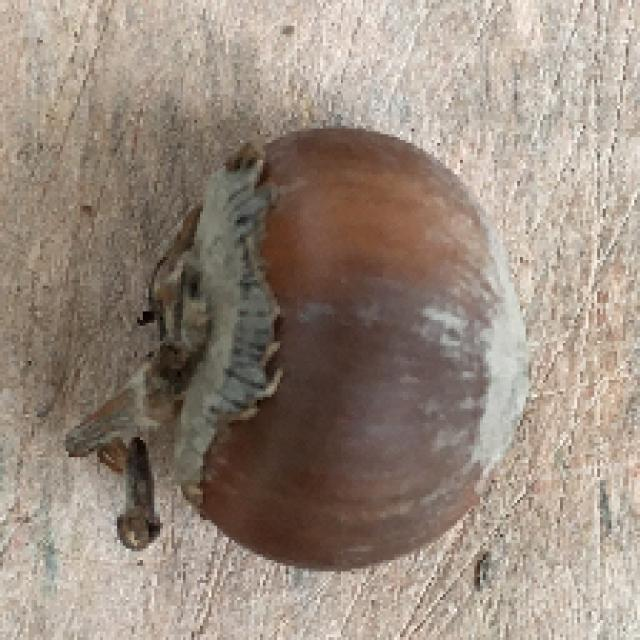damagedHazelnut: (121, 124, 528, 572)
